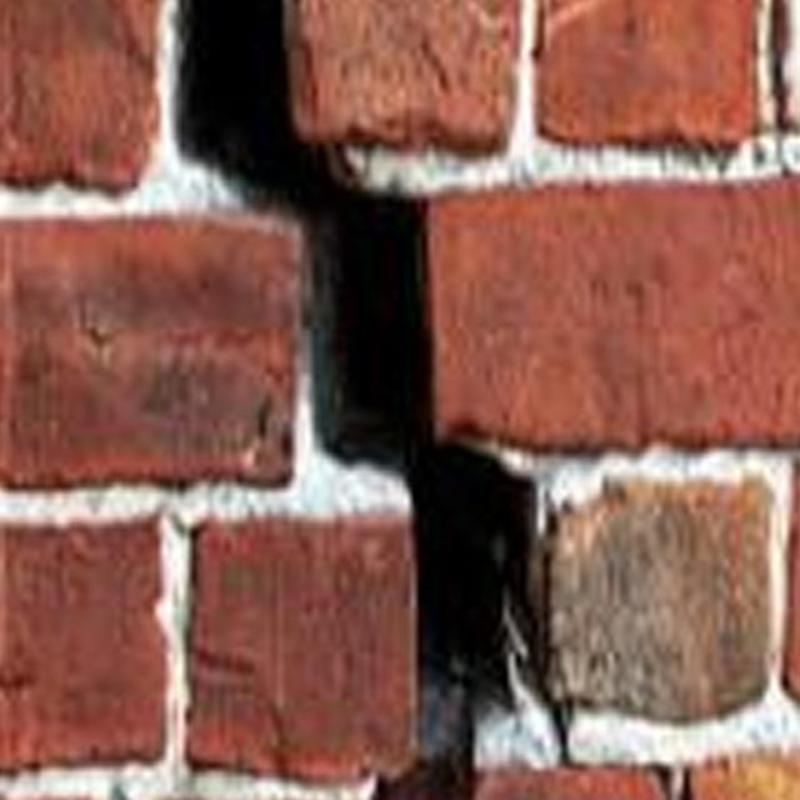pothole: (178, 0, 536, 799), (516, 636, 579, 769)
